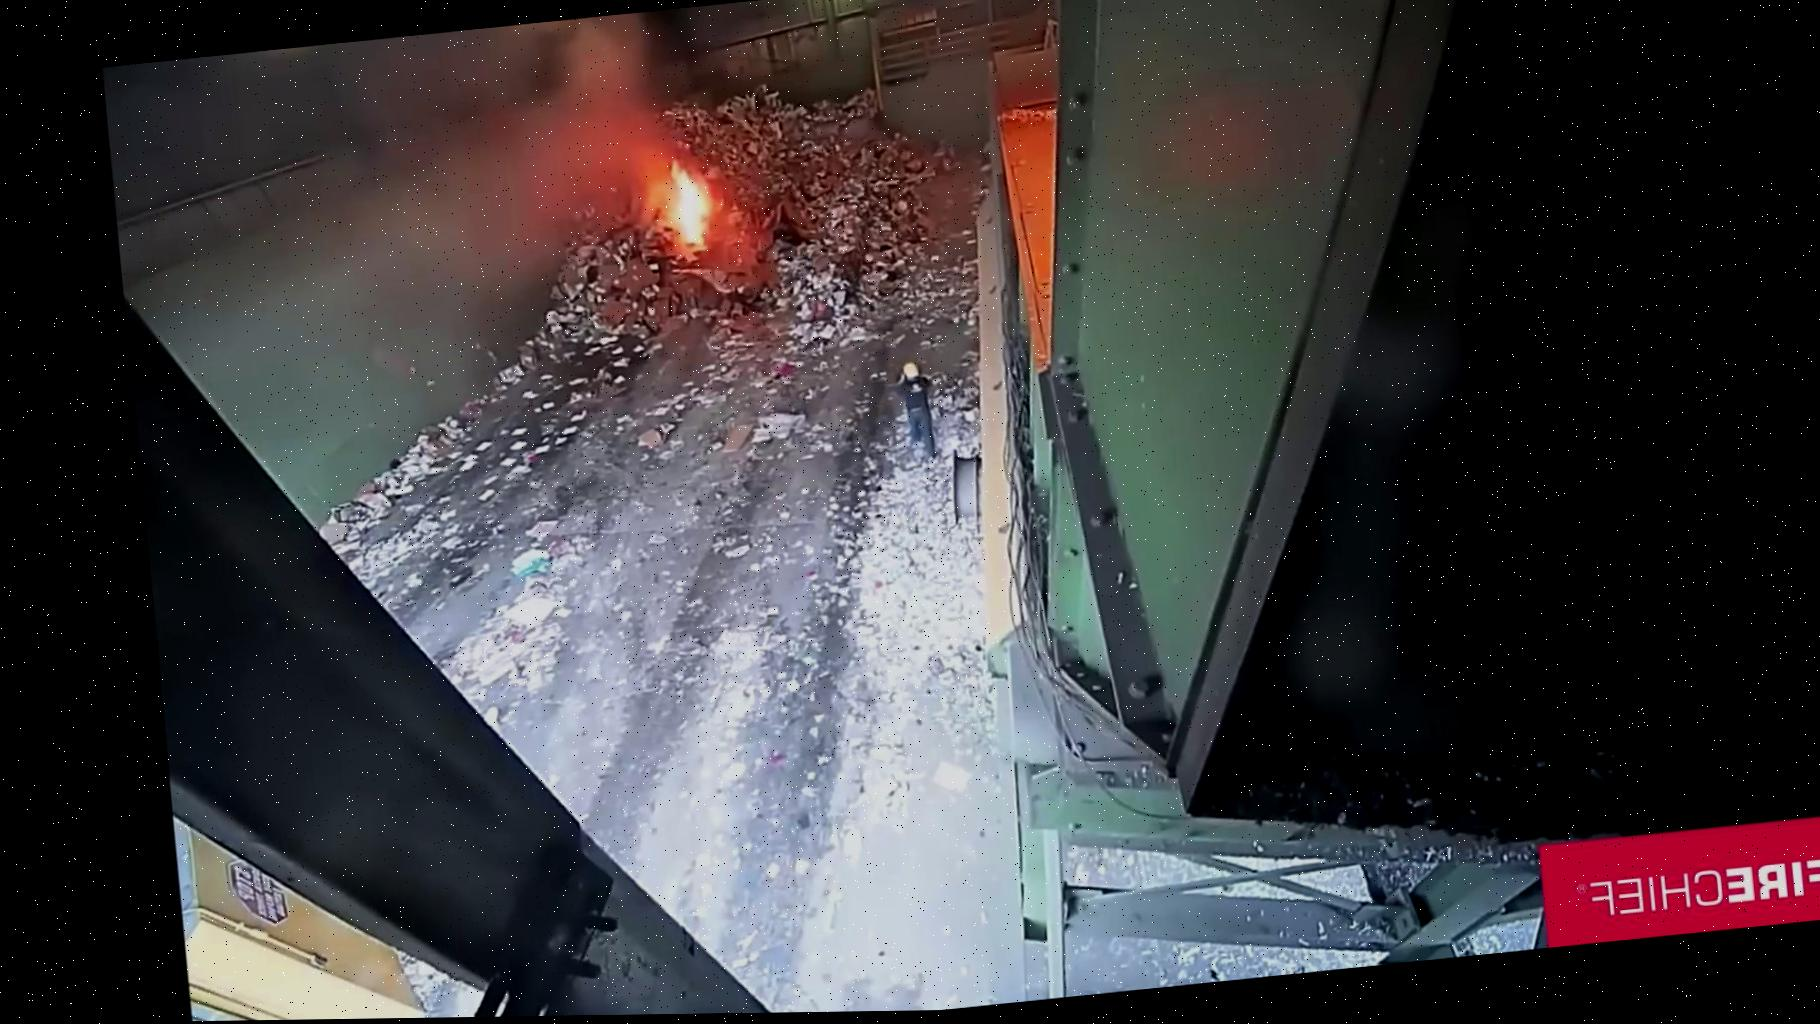fire: (495, 23, 826, 338)
